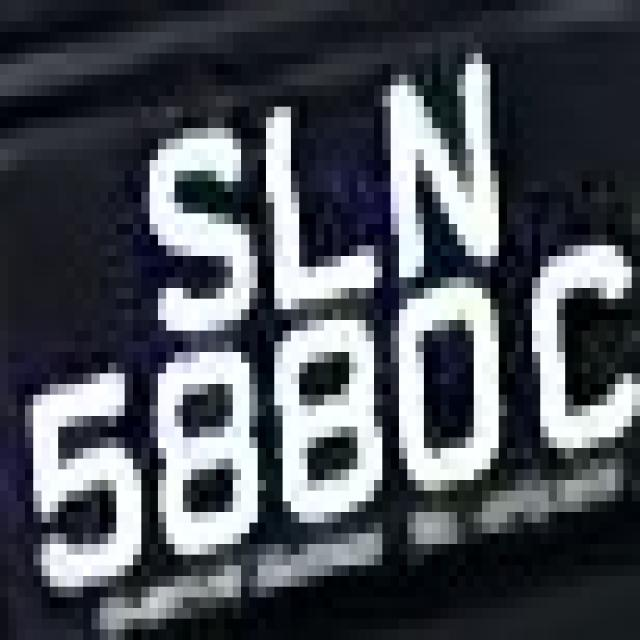0: (391, 266, 507, 522)
5: (25, 341, 150, 619)
8: (241, 298, 399, 554), (150, 320, 258, 555)
C: (523, 192, 640, 480)
L: (241, 64, 399, 331)
N: (357, 42, 507, 266)
S: (116, 96, 258, 363)
